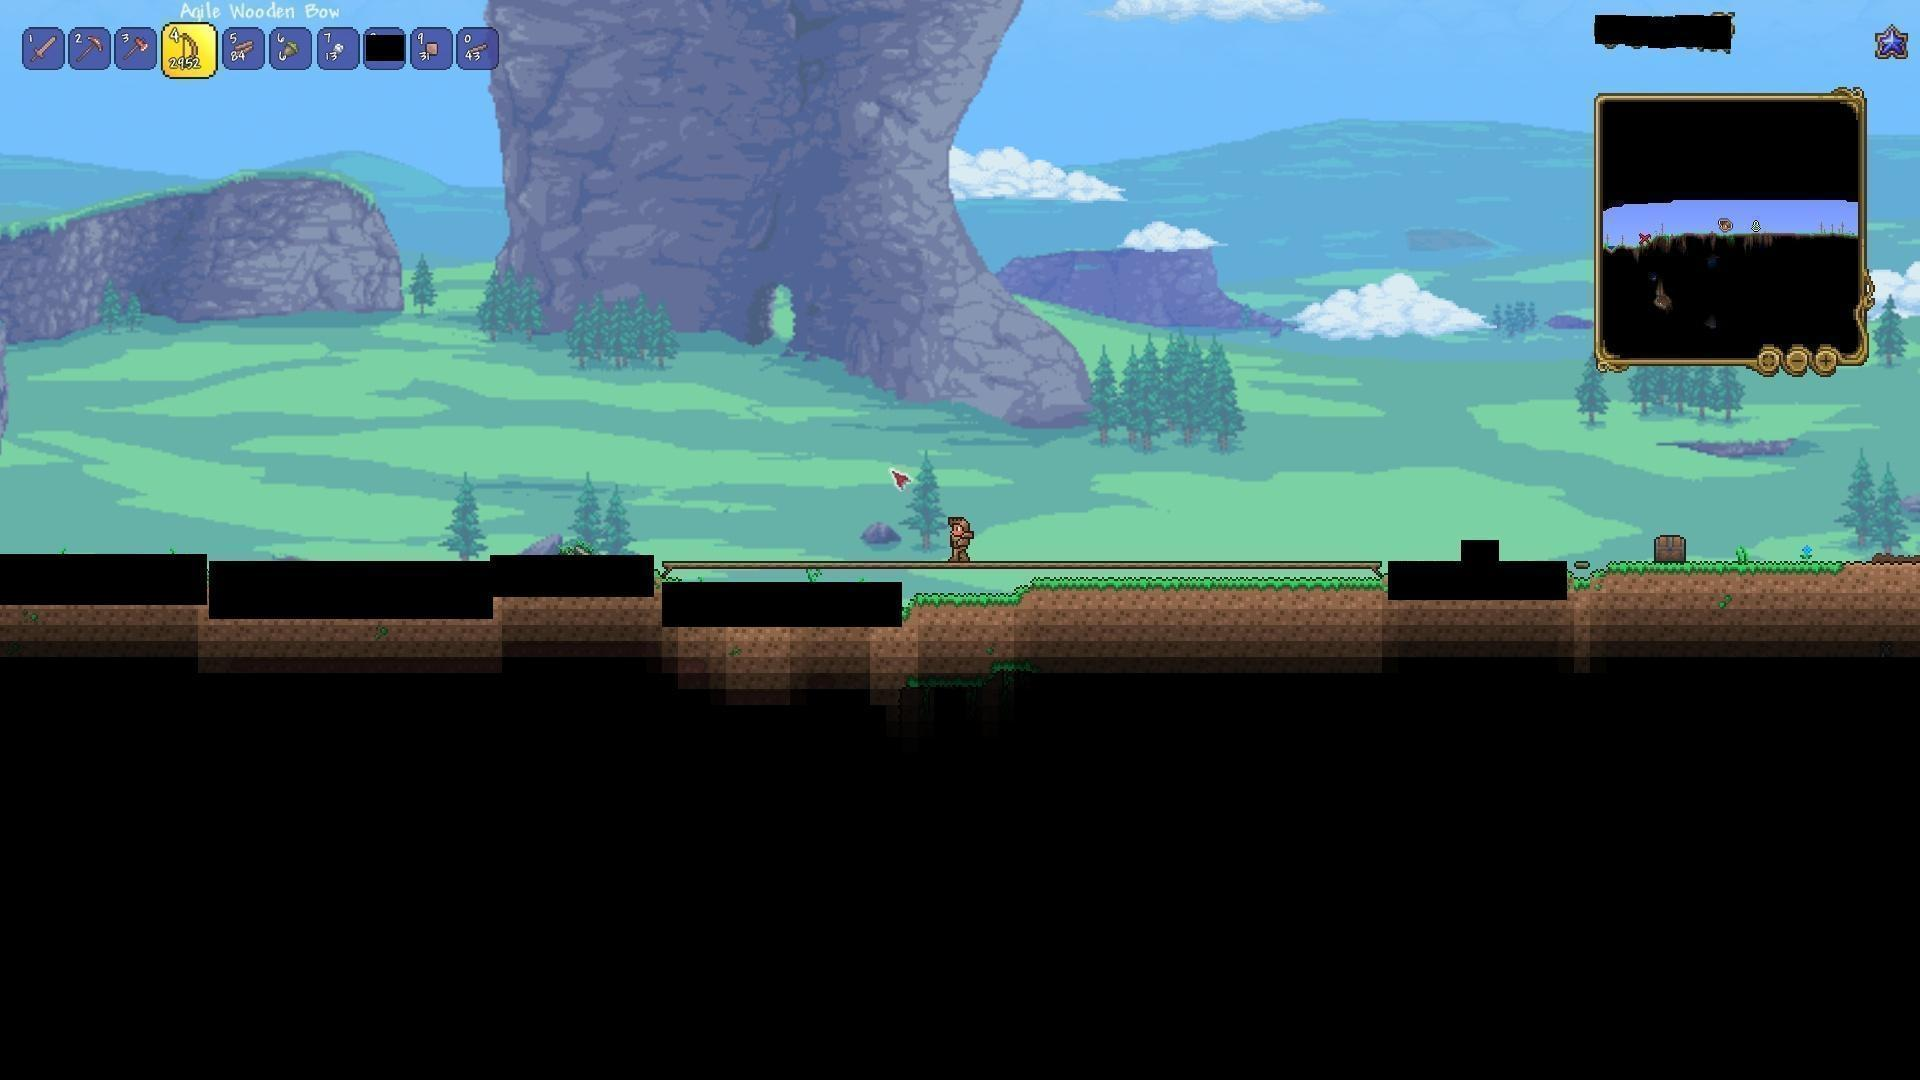dirt: (903, 574, 1386, 625), (1592, 556, 1920, 601)
wood: (229, 32, 255, 65)
